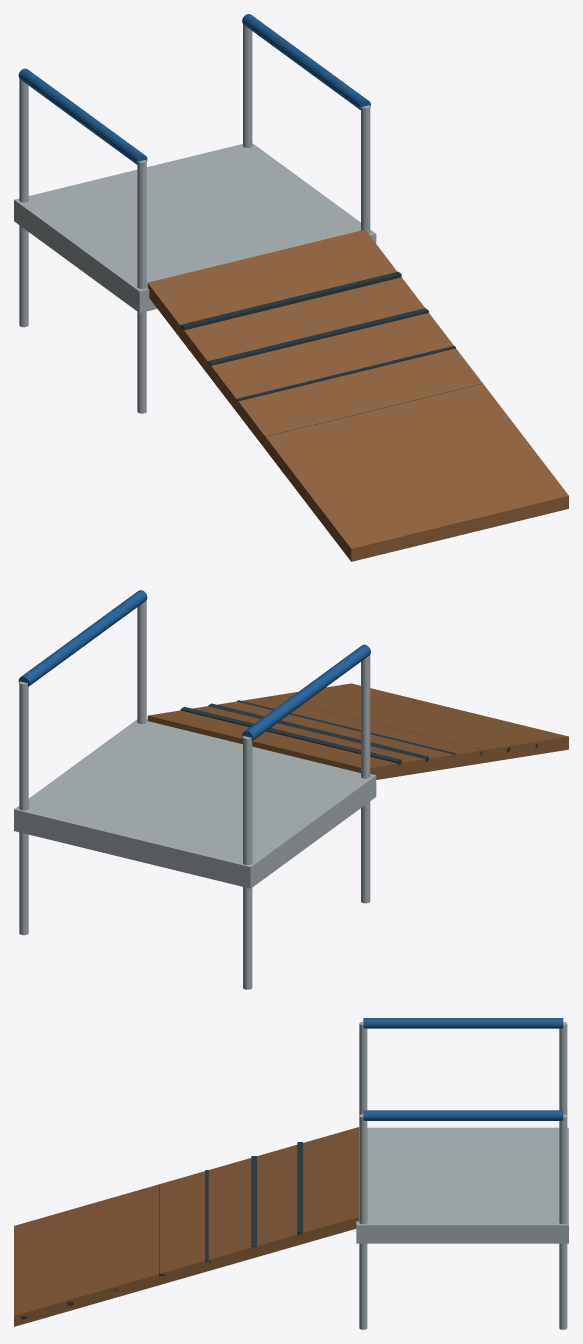
File: scendance-plan-time-trial-ramp.glb
The picture shows the model from 3 angles, top to bottom: view 1: azimuth 30°, elevation 25°; view 2: azimuth 150°, elevation 25°; view 3: azimuth 270°, elevation 25°; orthographic projection. The views are drawn at different scales.
Bounding box in the file's own units: 1.61 × 1.67 × 3.86.
